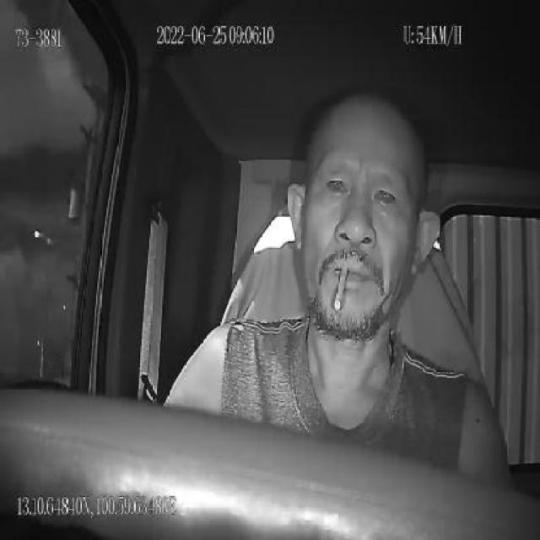smoking: (333, 262, 347, 310)
